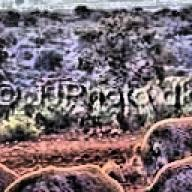boar: (135, 116, 192, 180), (0, 163, 124, 192), (136, 151, 191, 192)
